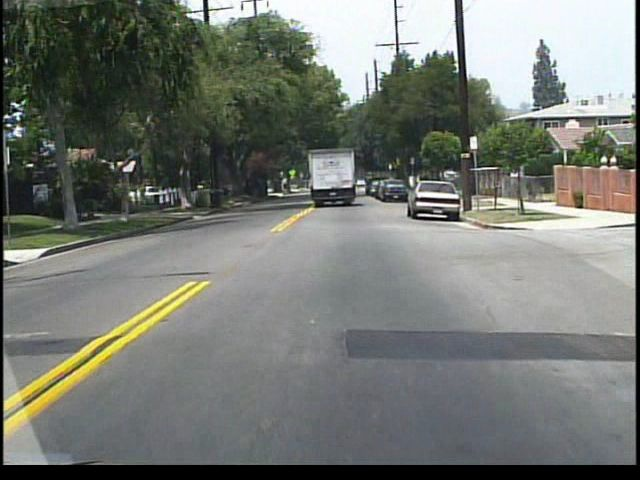person: (506, 164, 521, 200)
